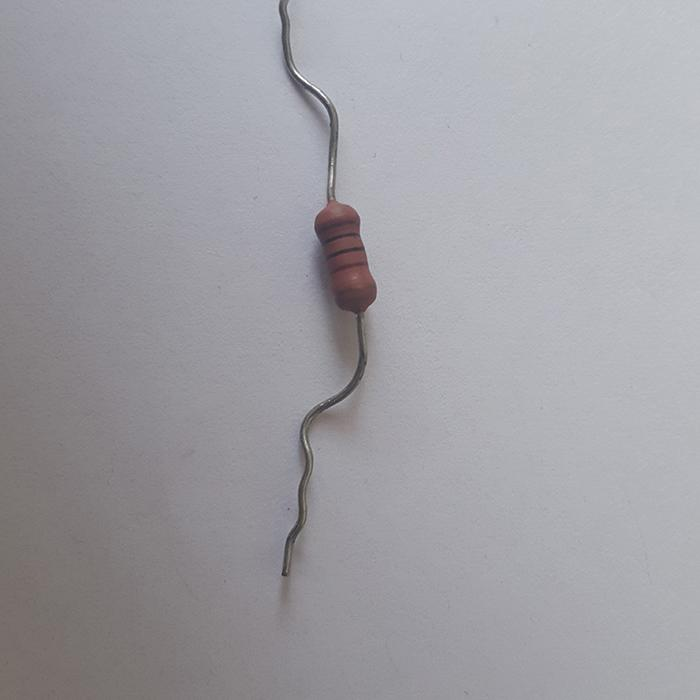resistor: (314, 198, 376, 313)
